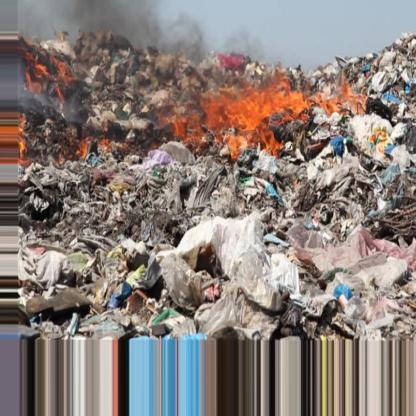fire: (170, 66, 296, 155), (299, 73, 373, 120), (22, 42, 72, 104), (62, 122, 132, 155)
